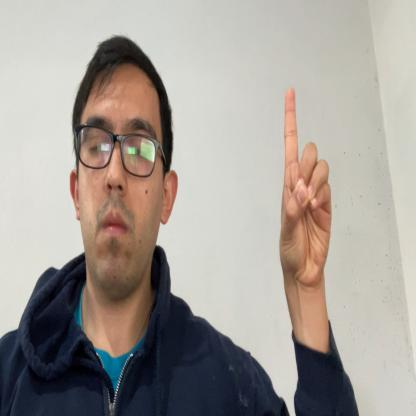D: (279, 87, 332, 289)
